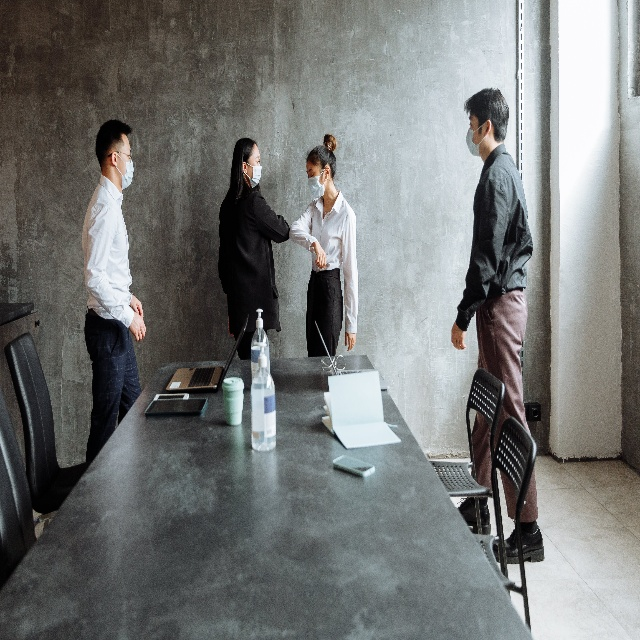Gafas: (321, 353, 346, 373), (107, 148, 133, 163)
Mascara: (465, 120, 488, 158), (112, 152, 134, 190), (307, 168, 327, 200), (243, 162, 262, 188)
Sin_guantes: (128, 311, 147, 342), (450, 321, 468, 350), (312, 242, 327, 270), (129, 293, 144, 319), (344, 331, 357, 352)
